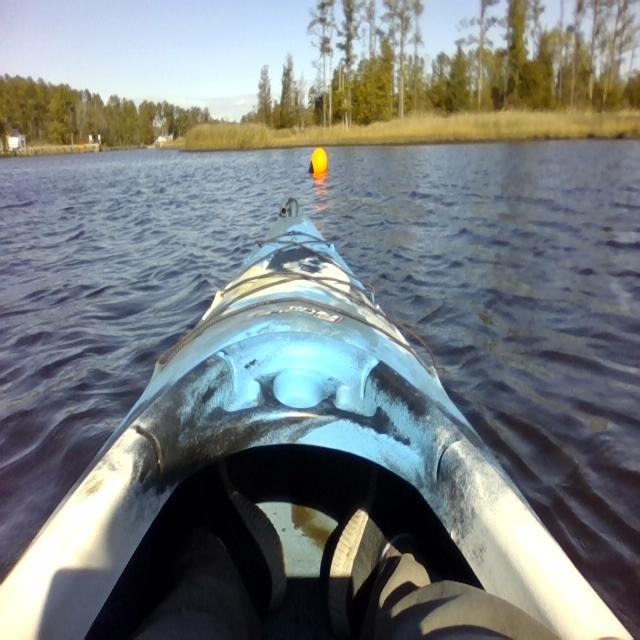Buoy: (306, 143, 330, 184)
